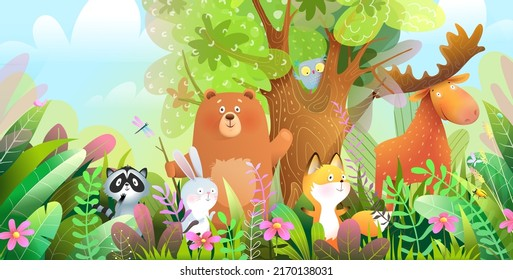animal: (375, 39, 479, 175), (189, 92, 290, 170), (302, 153, 354, 245), (173, 150, 219, 228), (103, 164, 151, 219)
bird: (293, 57, 331, 91)
flower: (241, 169, 273, 258), (1, 215, 36, 252), (261, 217, 290, 250), (430, 213, 459, 244), (186, 230, 215, 253)
tree: (155, 1, 436, 86)
